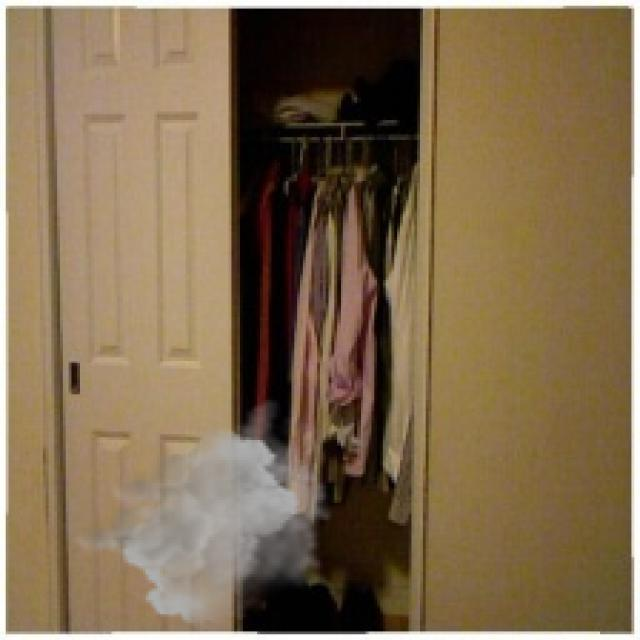Smoke: (72, 397, 334, 629)
